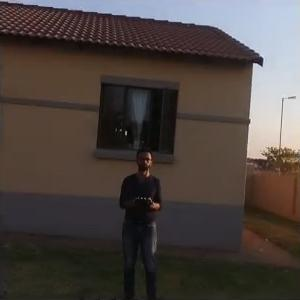follow: (114, 142, 165, 298)
